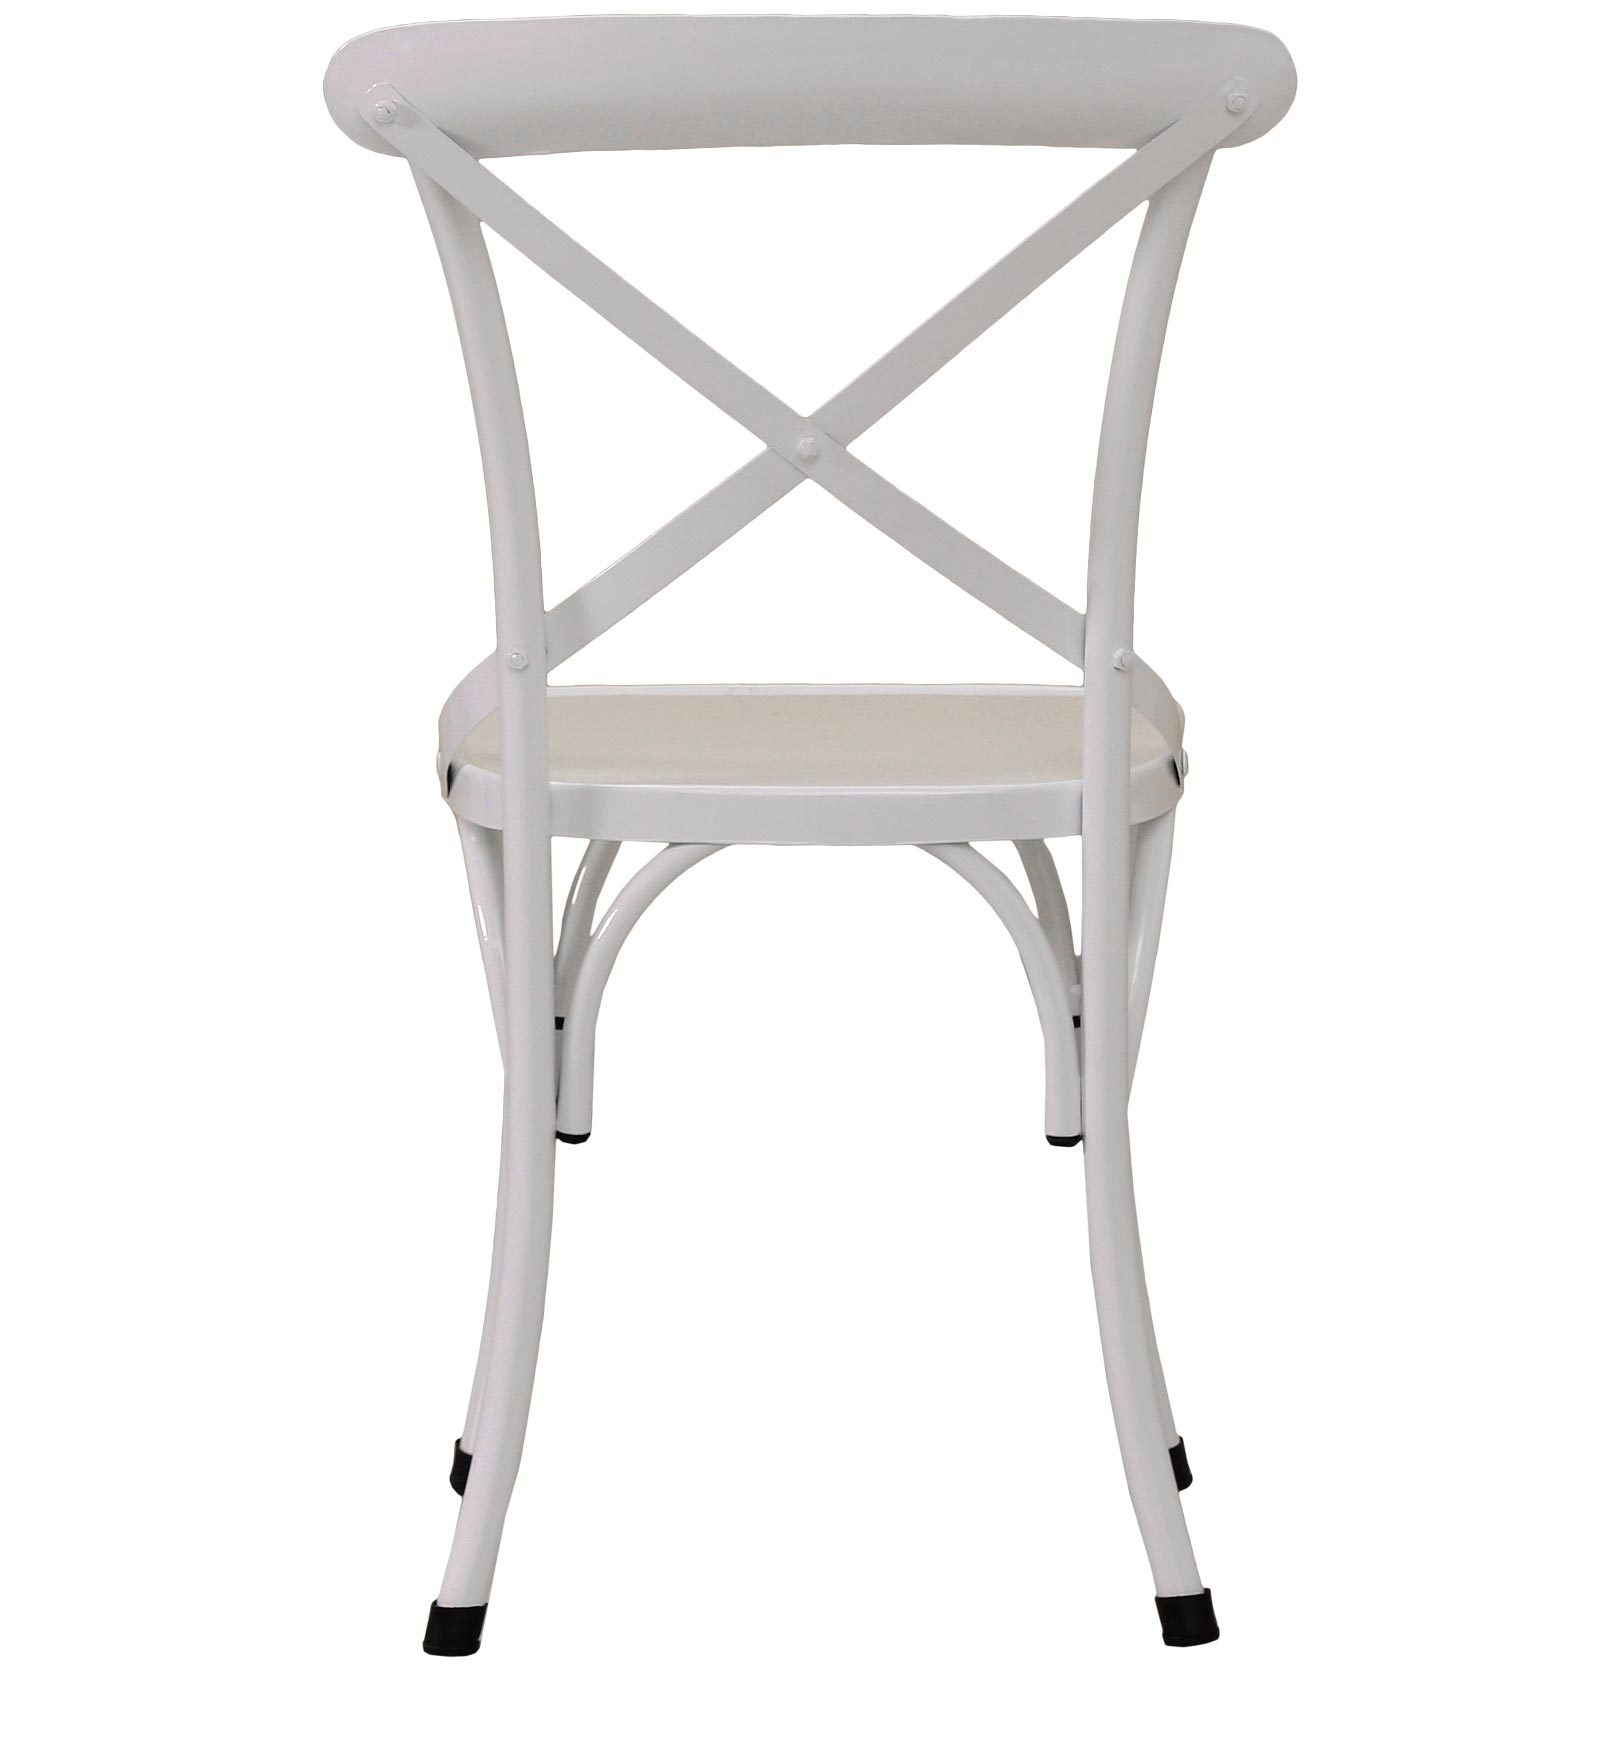Fabian Metal Chair in White Color by Bohemiana: (300, 9, 1358, 1670)
